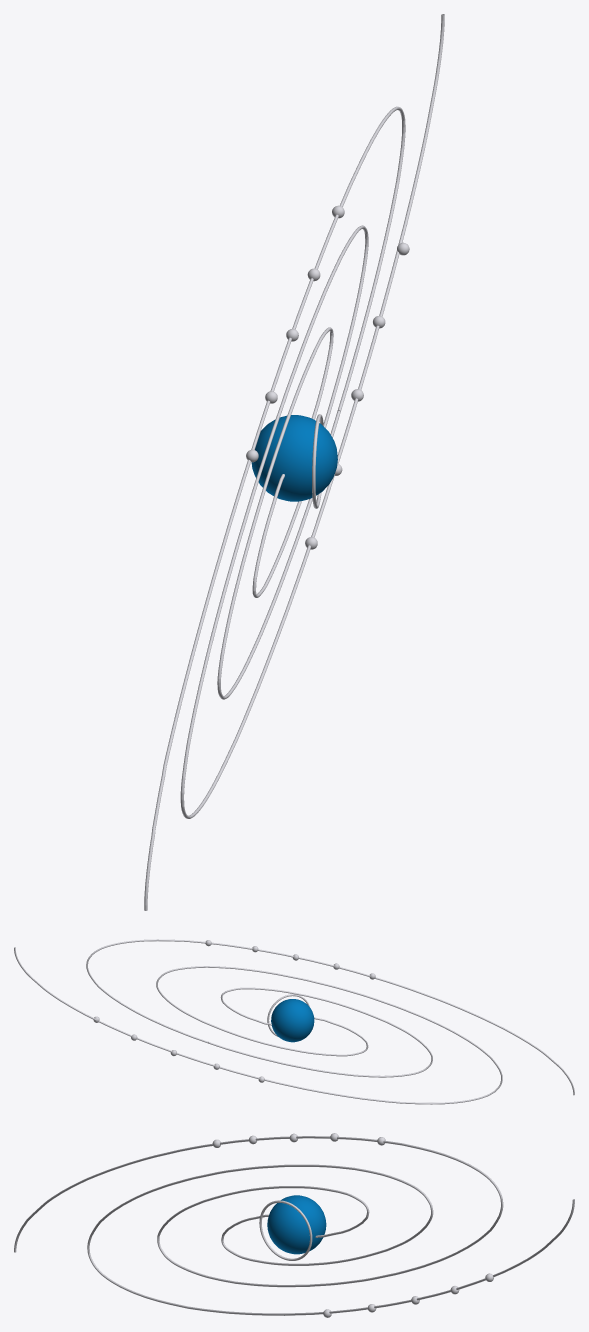
The model's file is f22noanime.glb.
3 views of the same model, one above another, from view 1: azimuth 30°, elevation 25°; view 2: azimuth 150°, elevation 25°; view 3: azimuth 270°, elevation 25° (orthographic). The views are drawn at different scales.
Visible parts, largest first — view 1: spiral, center ball; view 2: spiral, center ball; view 3: spiral, center ball, center circle.
Boxes of the visible parts, left/top/right/bottom form: spiral: left=144, top=14, right=444, bottom=910; center ball: left=251, top=415, right=337, bottom=501; spiral: left=14, top=939, right=574, bottom=1104; center ball: left=271, top=999, right=314, bottom=1042; spiral: left=14, top=1136, right=574, bottom=1315; center ball: left=267, top=1195, right=326, bottom=1254; center circle: left=259, top=1200, right=312, bottom=1260.
Bounding box in the file's own units: 4.58 × 2.6 × 4.6.
